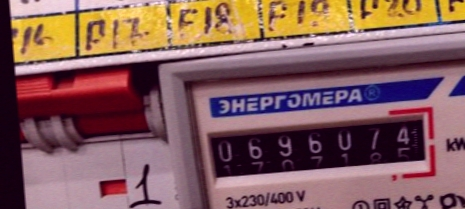0: (213, 137, 234, 162), (335, 125, 352, 152)
4: (392, 121, 410, 144)
5: (395, 146, 412, 162)
6: (306, 128, 325, 155), (245, 134, 264, 160)
7: (365, 124, 383, 150)
9: (275, 131, 293, 158)
screen: (196, 102, 440, 189)
